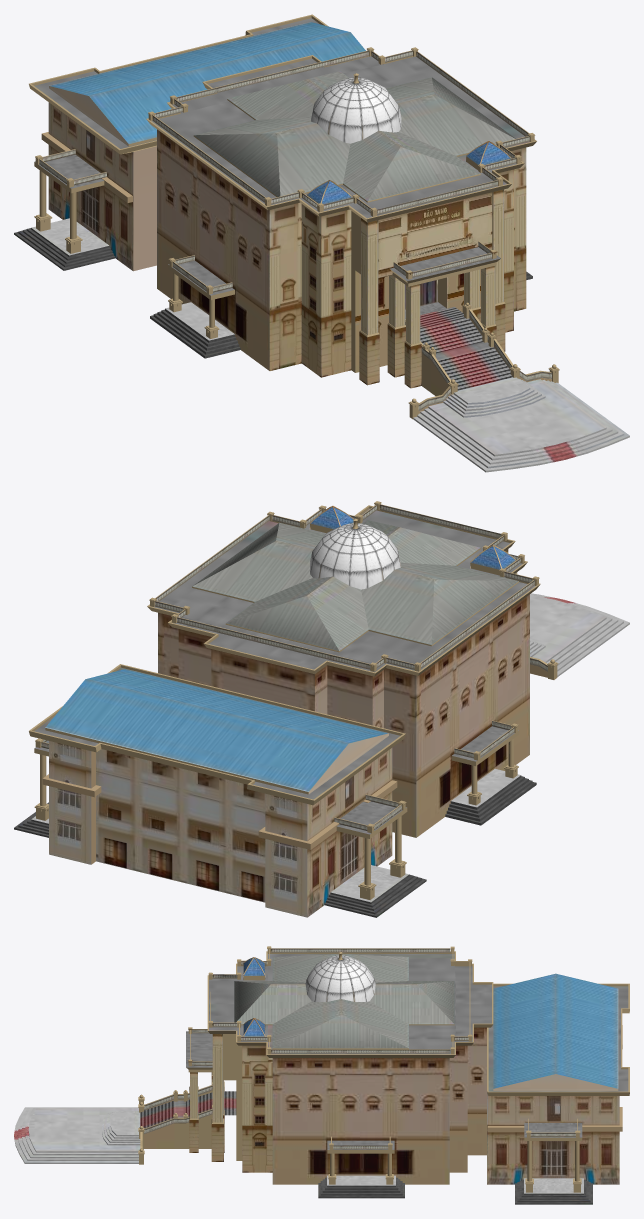
The picture shows the model from 3 angles, top to bottom: view 1: azimuth 30°, elevation 25°; view 2: azimuth 150°, elevation 25°; view 3: azimuth 270°, elevation 25°; orthographic projection. The views are drawn at different scales.
Parts seen in each view (by area): view 1: HN668_BaoTangHangKhongKhongQuan; view 2: HN668_BaoTangHangKhongKhongQuan; view 3: HN668_BaoTangHangKhongKhongQuan.
Boxes of the visible parts, x1,y1,x2,y2 form: HN668_BaoTangHangKhongKhongQuan: (14,14,629,472); HN668_BaoTangHangKhongKhongQuan: (14,501,629,917); HN668_BaoTangHangKhongKhongQuan: (14,946,629,1204).
Size of the model in its own units: 44.89 by 27.95 by 84.68.
1 material, 1 textured.
